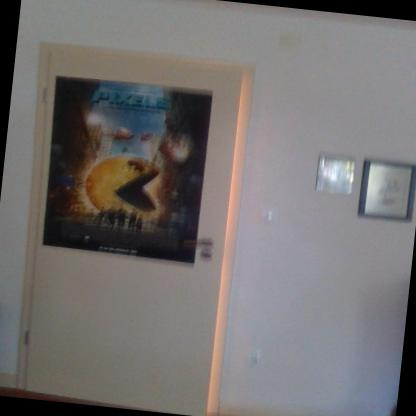closed: (0, 34, 268, 415)
